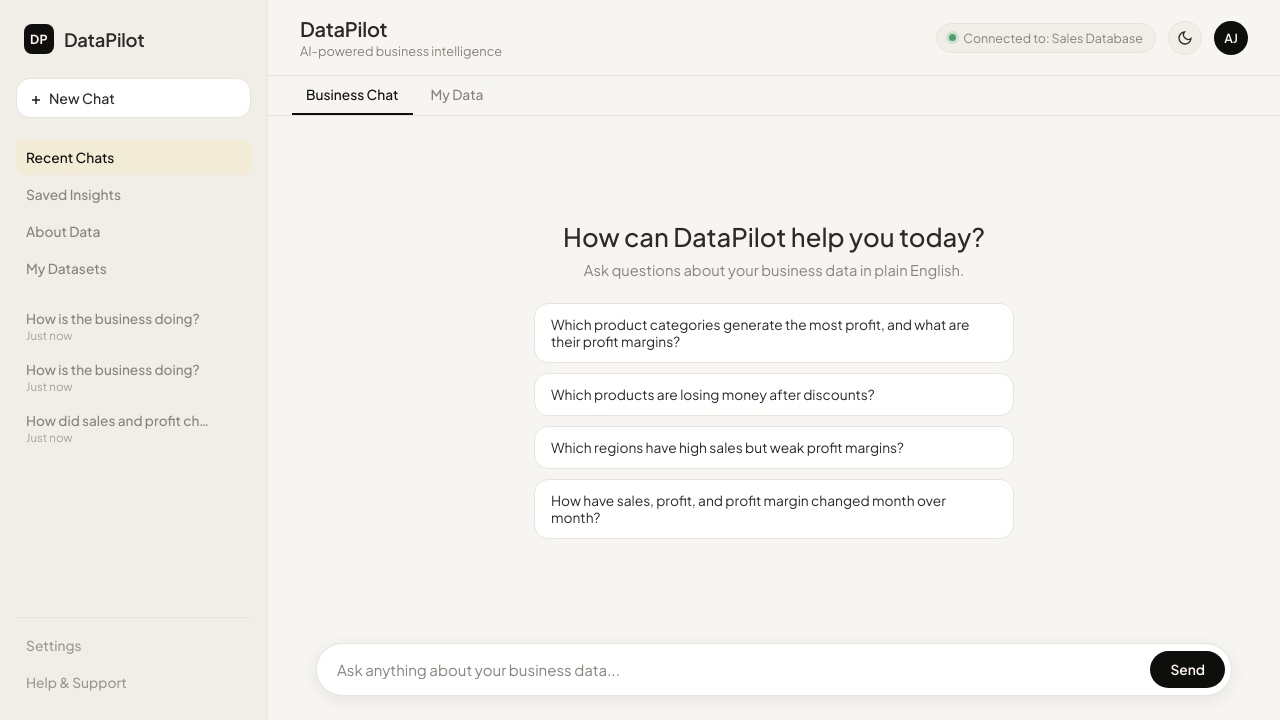
Scenario: clarification responses › shows returned query rows in a results table
Type "Which products had the most returns?" into the field with placeholder "Ask anything about your business data..." at (739, 670), box 337,650 -> 1140,689
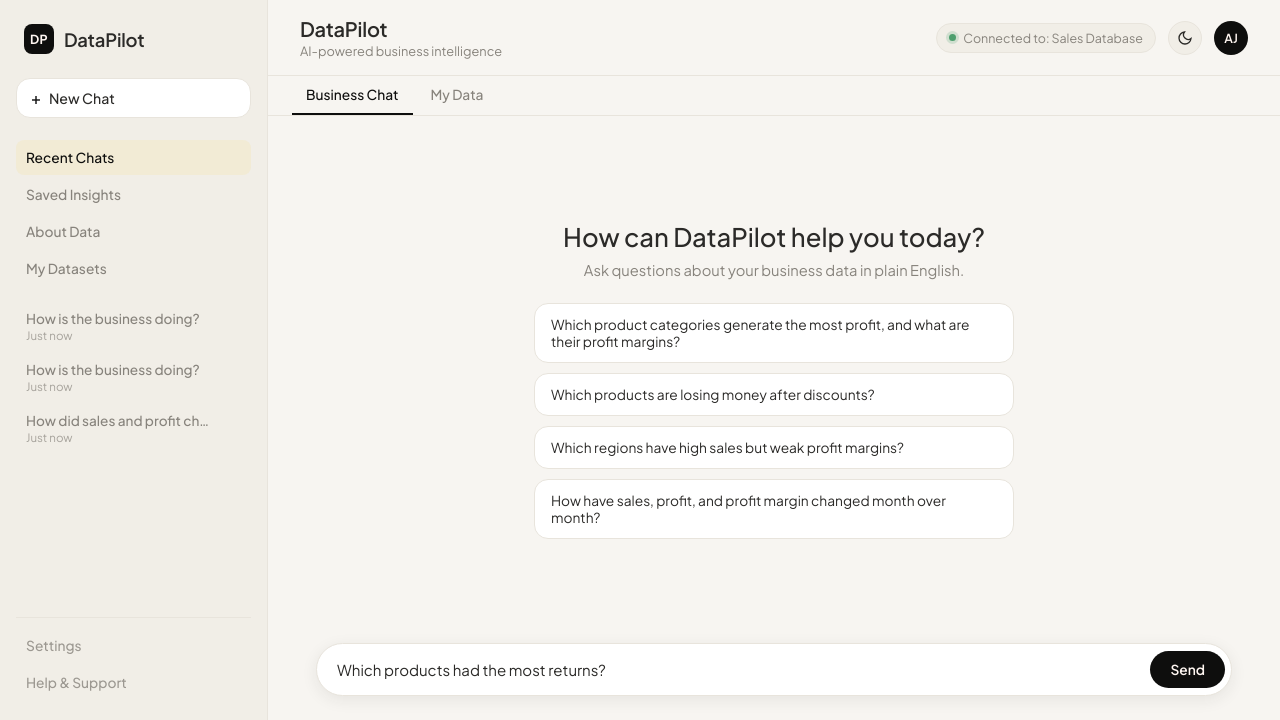
Click the button "Send" at (1188, 670), box 1150,651 -> 1225,688
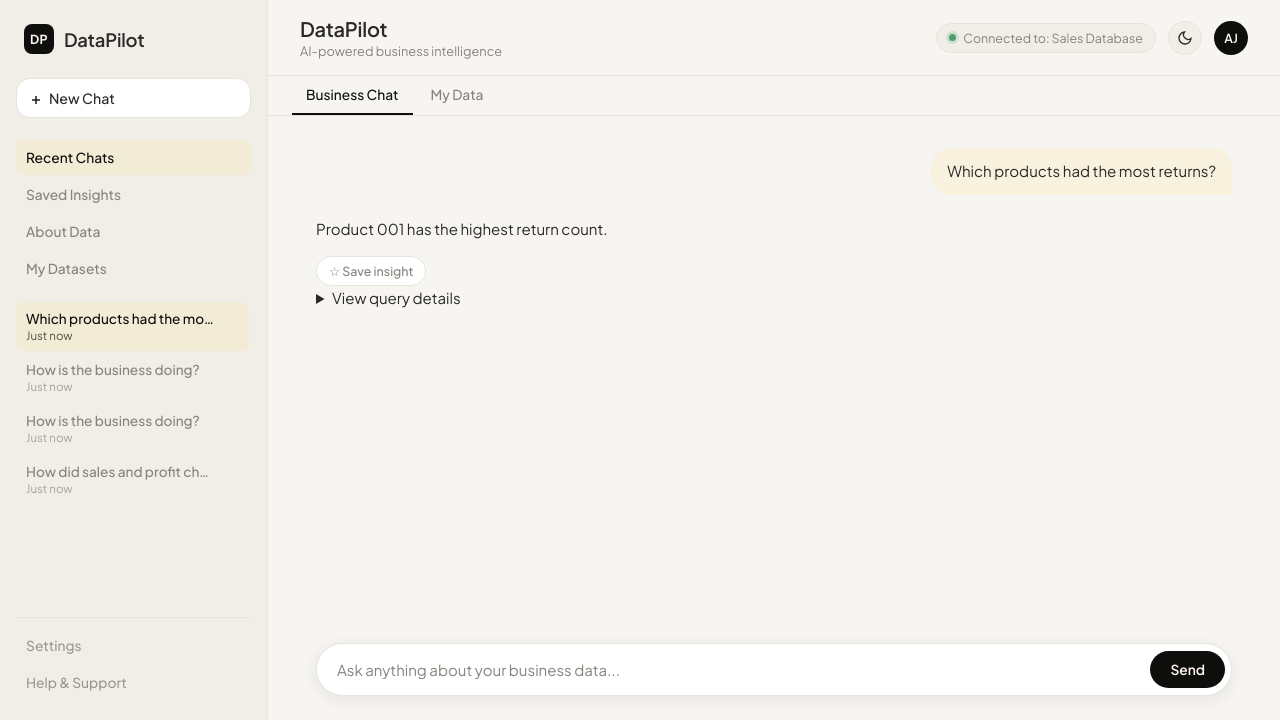
Result: the text "Product 001 has the highest return count." is shown at 316,219 -> 608,238
